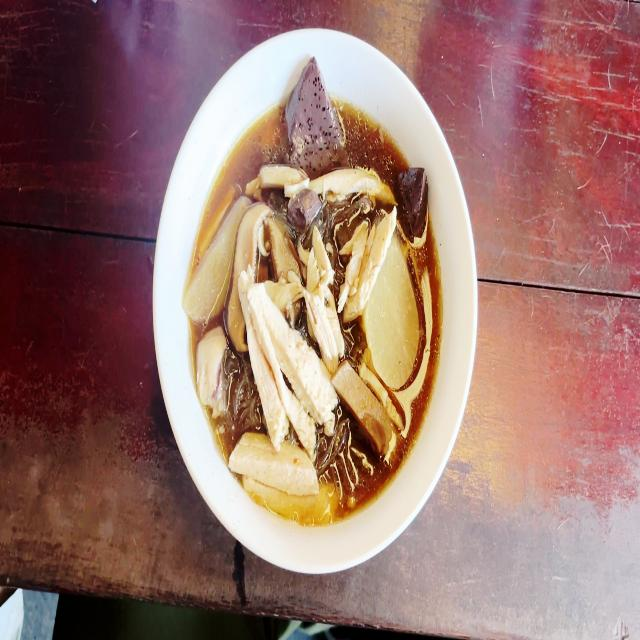boiled_chicken_blood_jelly: (288, 61, 338, 166), (394, 154, 429, 234), (292, 192, 318, 232)
chicken_shredded: (245, 285, 332, 446), (230, 436, 331, 525), (245, 162, 392, 201), (342, 208, 397, 308), (305, 227, 339, 363), (192, 328, 230, 412)
daikon_radish: (369, 259, 418, 379), (196, 196, 229, 318)
noodle: (192, 100, 434, 518)
